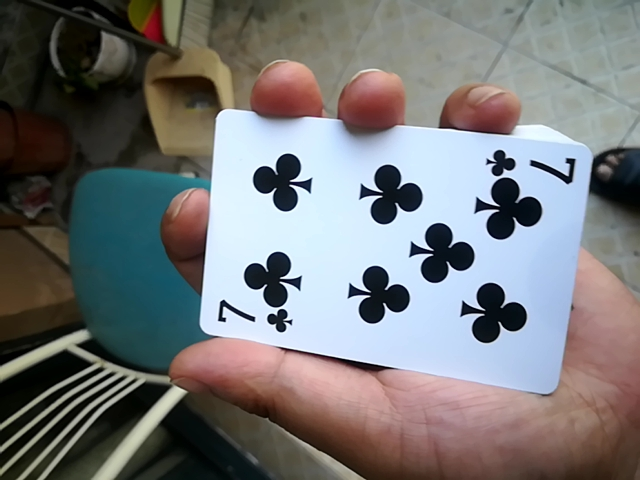mh 7: (192, 105, 586, 386)
